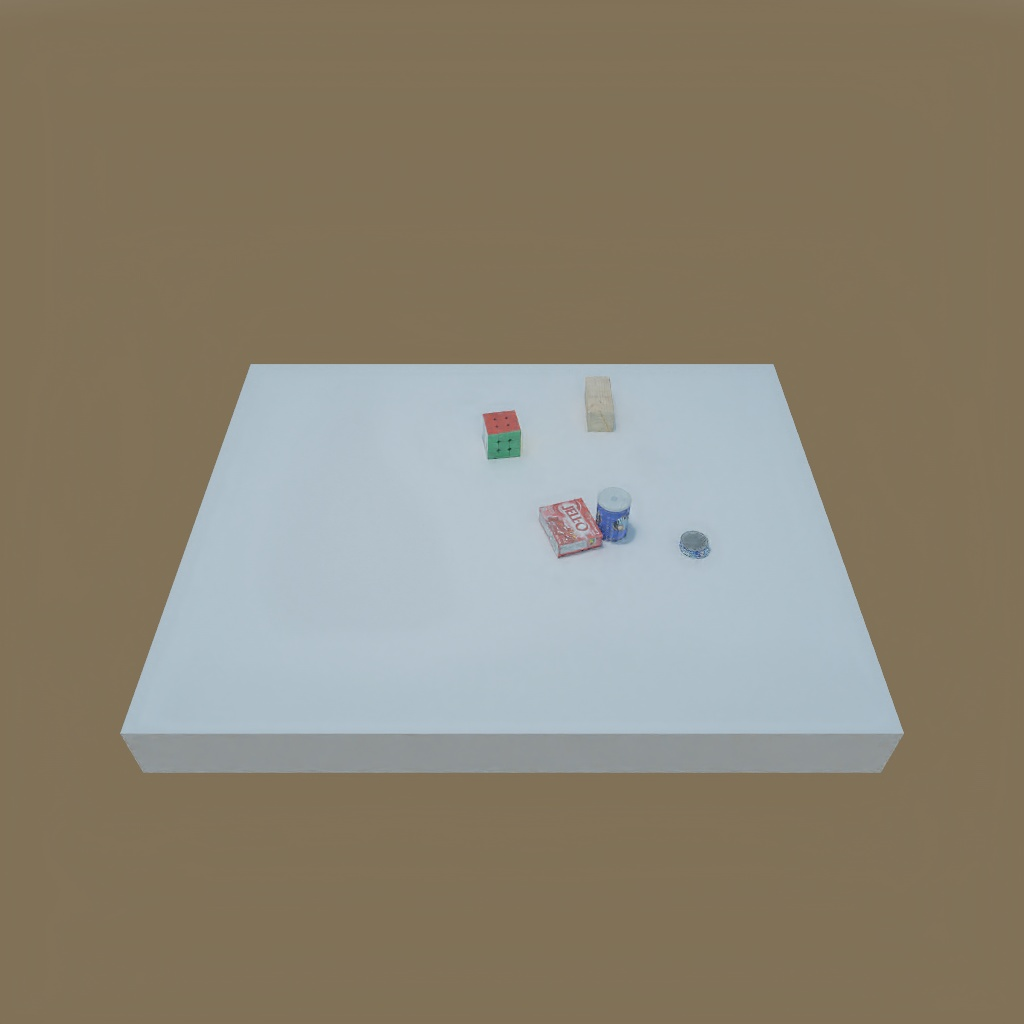gelatin_box: (538, 499, 601, 559)
master_chef_can: (592, 488, 636, 549)
rubiks_cube: (477, 409, 524, 464)
wood_block: (582, 372, 617, 433)
